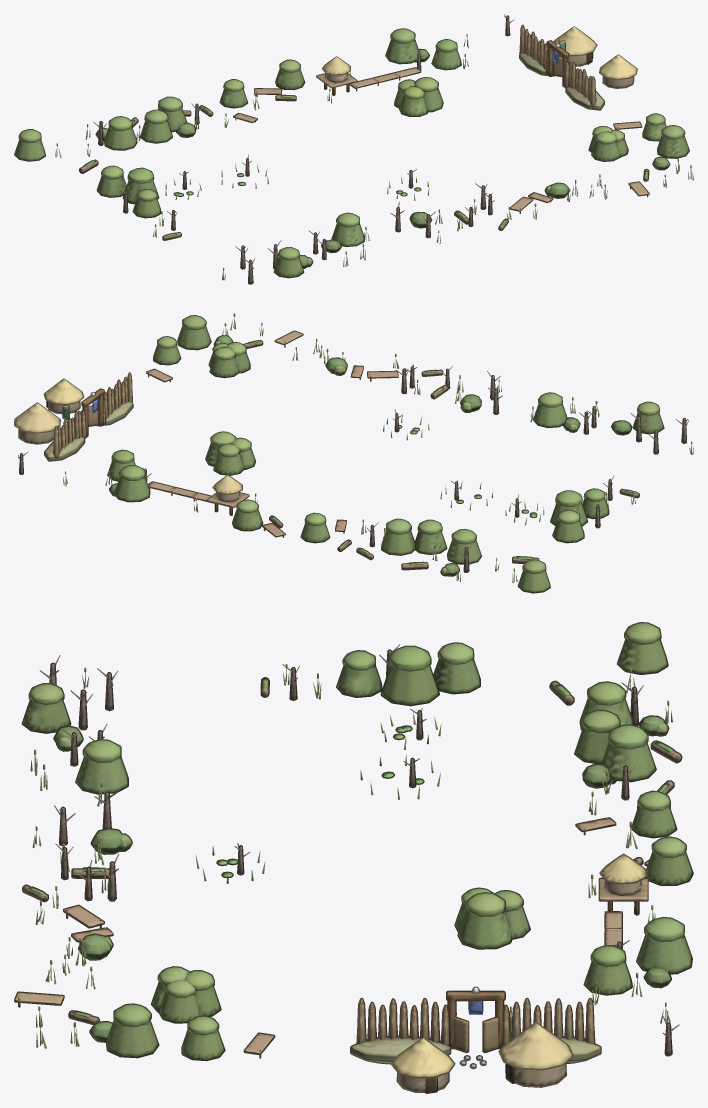
Rendered from mirefen_bog.glb.
3 views of the same model, one above another, from view 1: azimuth 30°, elevation 25°; view 2: azimuth 150°, elevation 25°; view 3: azimuth 270°, elevation 25° (orthographic). The views are drawn at different scales.
Visible parts, largest first — view 1: Baked_matte, Baked_matte_Outline; view 2: Baked_matte, Baked_matte_Outline; view 3: Baked_matte, Baked_matte_Outline.
Boxes of the visible parts, x1,y1,x2,y2 form: Baked_matte: (15,14,693,283); Baked_matte_Outline: (14,15,689,284); Baked_matte: (14,313,693,592); Baked_matte_Outline: (14,315,686,593); Baked_matte: (15,623,692,1092); Baked_matte_Outline: (14,622,693,1093).
Bounding box in the file's own units: 41.08 × 3.16 × 27.14.
